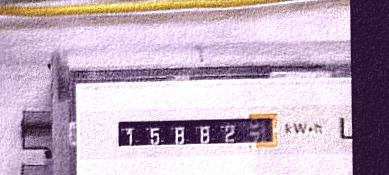1: (125, 126, 134, 144)
2: (224, 122, 236, 143)
5: (147, 126, 161, 145)
7: (248, 129, 260, 141)
8: (198, 123, 211, 144), (174, 124, 186, 144)
screen: (113, 111, 282, 153)
